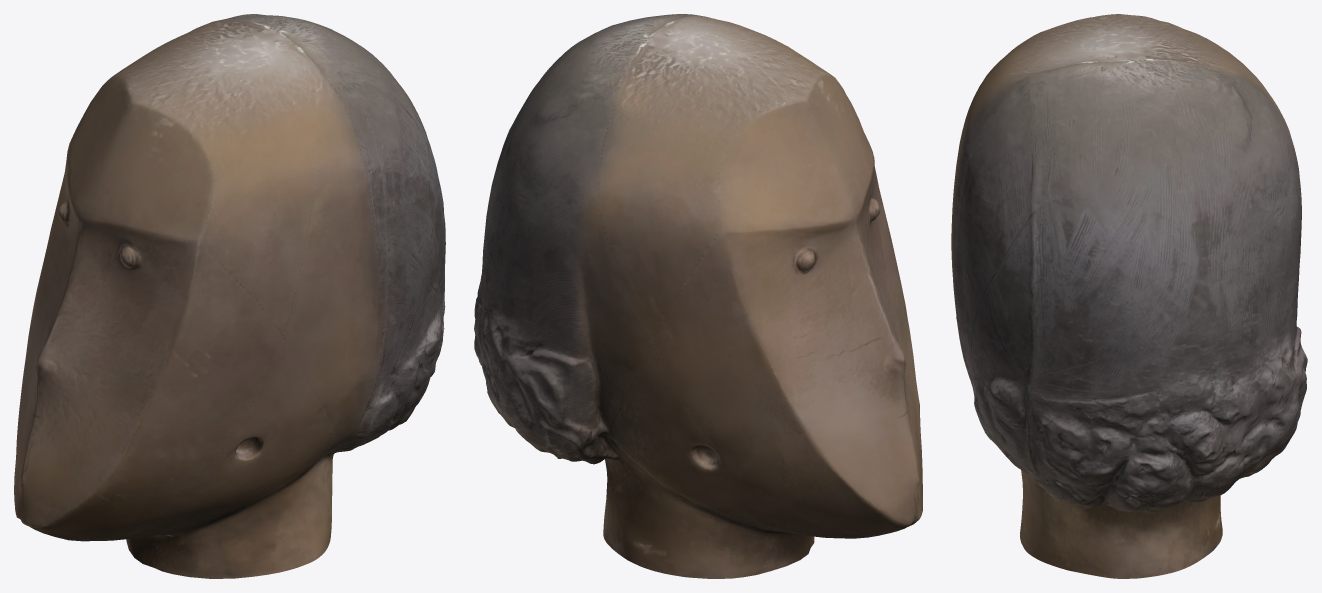
The model's file is head-c.glb.
3 views of the same model, side by side, from view 1: azimuth 30°, elevation 25°; view 2: azimuth 150°, elevation 25°; view 3: azimuth 270°, elevation 25° (orthographic). The views are drawn at different scales.
Parts seen in each view (by area): view 1: headB_low; view 2: headB_low; view 3: headB_low.
Boxes of the visible parts, x1,y1,x2,y2 form: headB_low: (14, 14, 445, 578); headB_low: (474, 14, 922, 578); headB_low: (951, 14, 1307, 578).
Size of the model in its own units: 22.45 by 25.55 by 16.5.
Materials: 1 (1 with a texture image).
